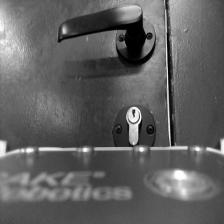Door Handle: (56, 0, 158, 70)
Lock: (112, 102, 157, 148)
